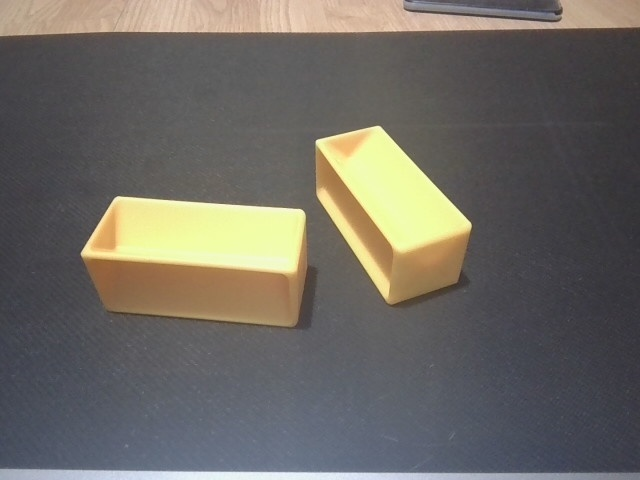YellowSample: (73, 190, 312, 332), (309, 123, 475, 308)
